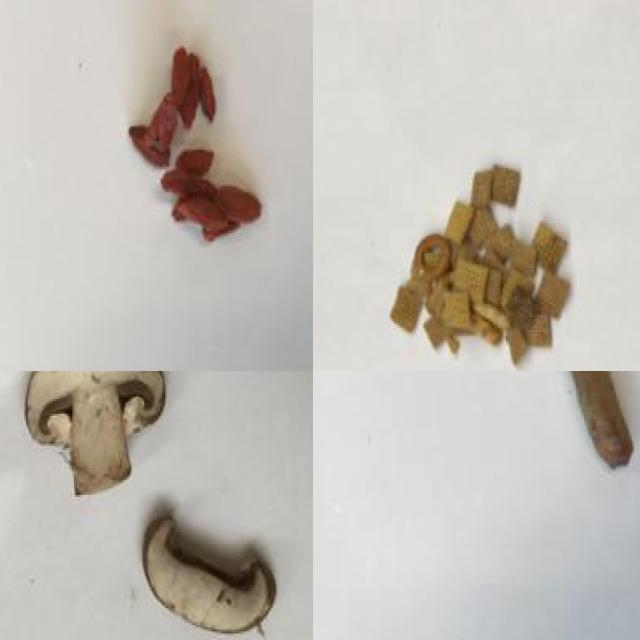compost: (26, 371, 313, 640), (379, 134, 604, 371), (112, 25, 288, 275), (523, 371, 640, 489)
